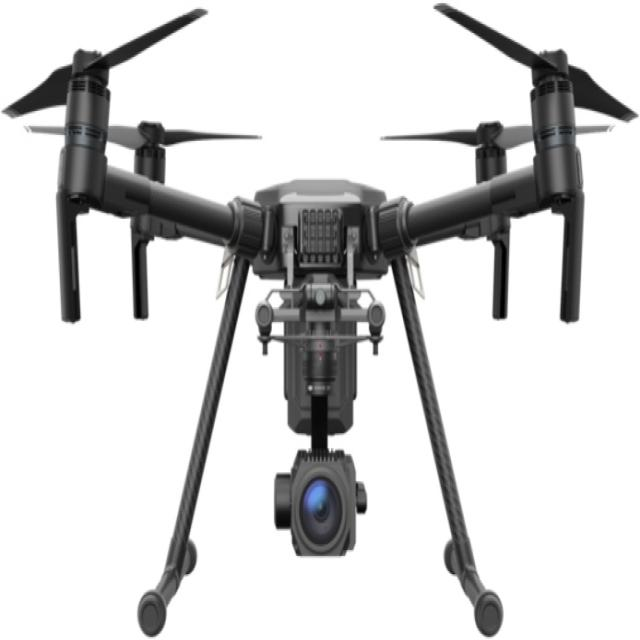drone: (9, 12, 634, 379)
